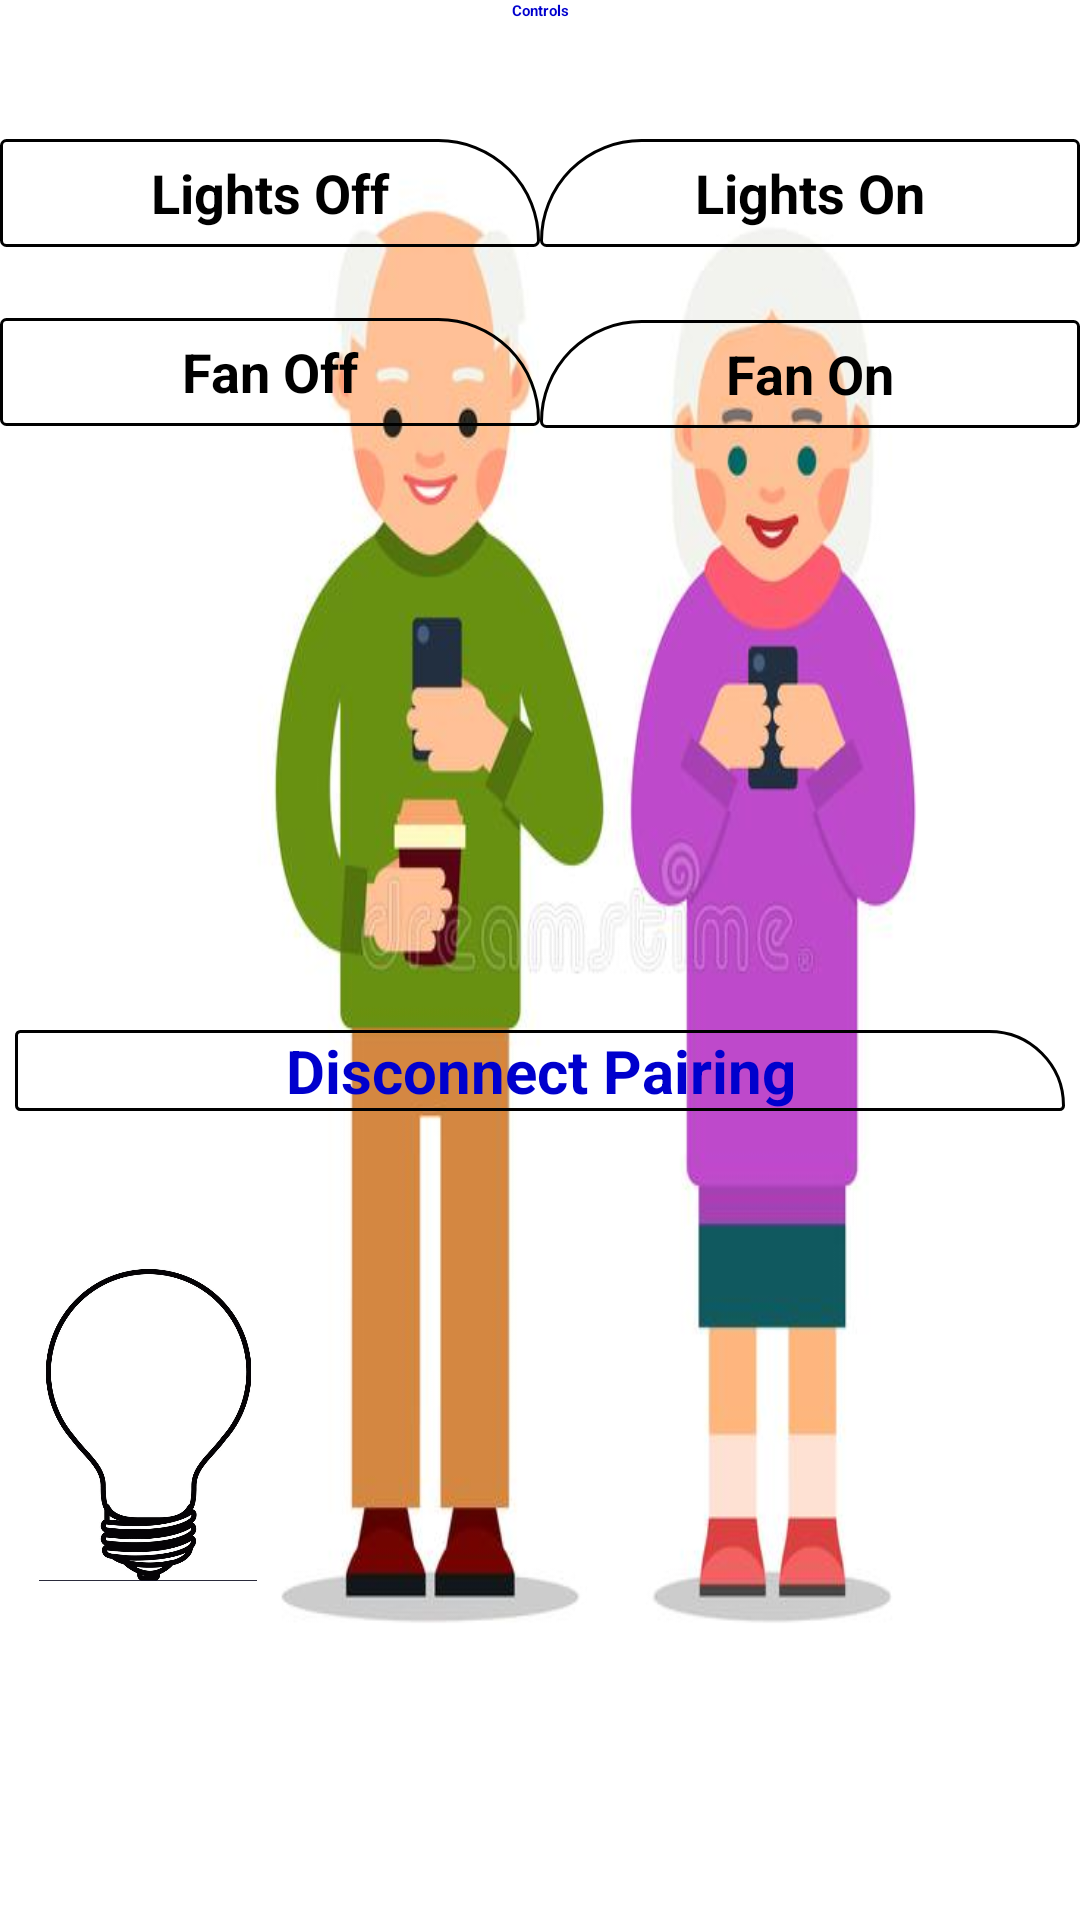

Screen size 1080×1920. Icon name, then its center in pixels as point (x, y):
lightsoff: point (148, 1425)
